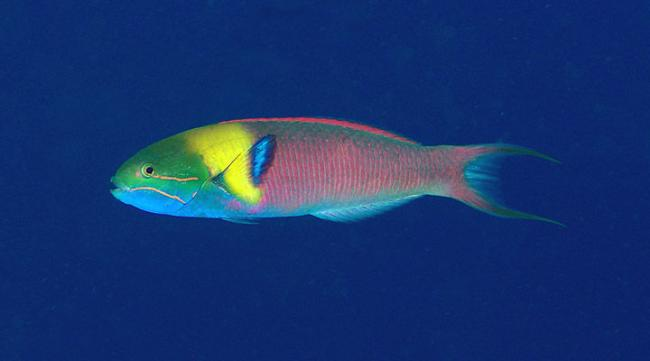fish: (109, 117, 567, 228)
